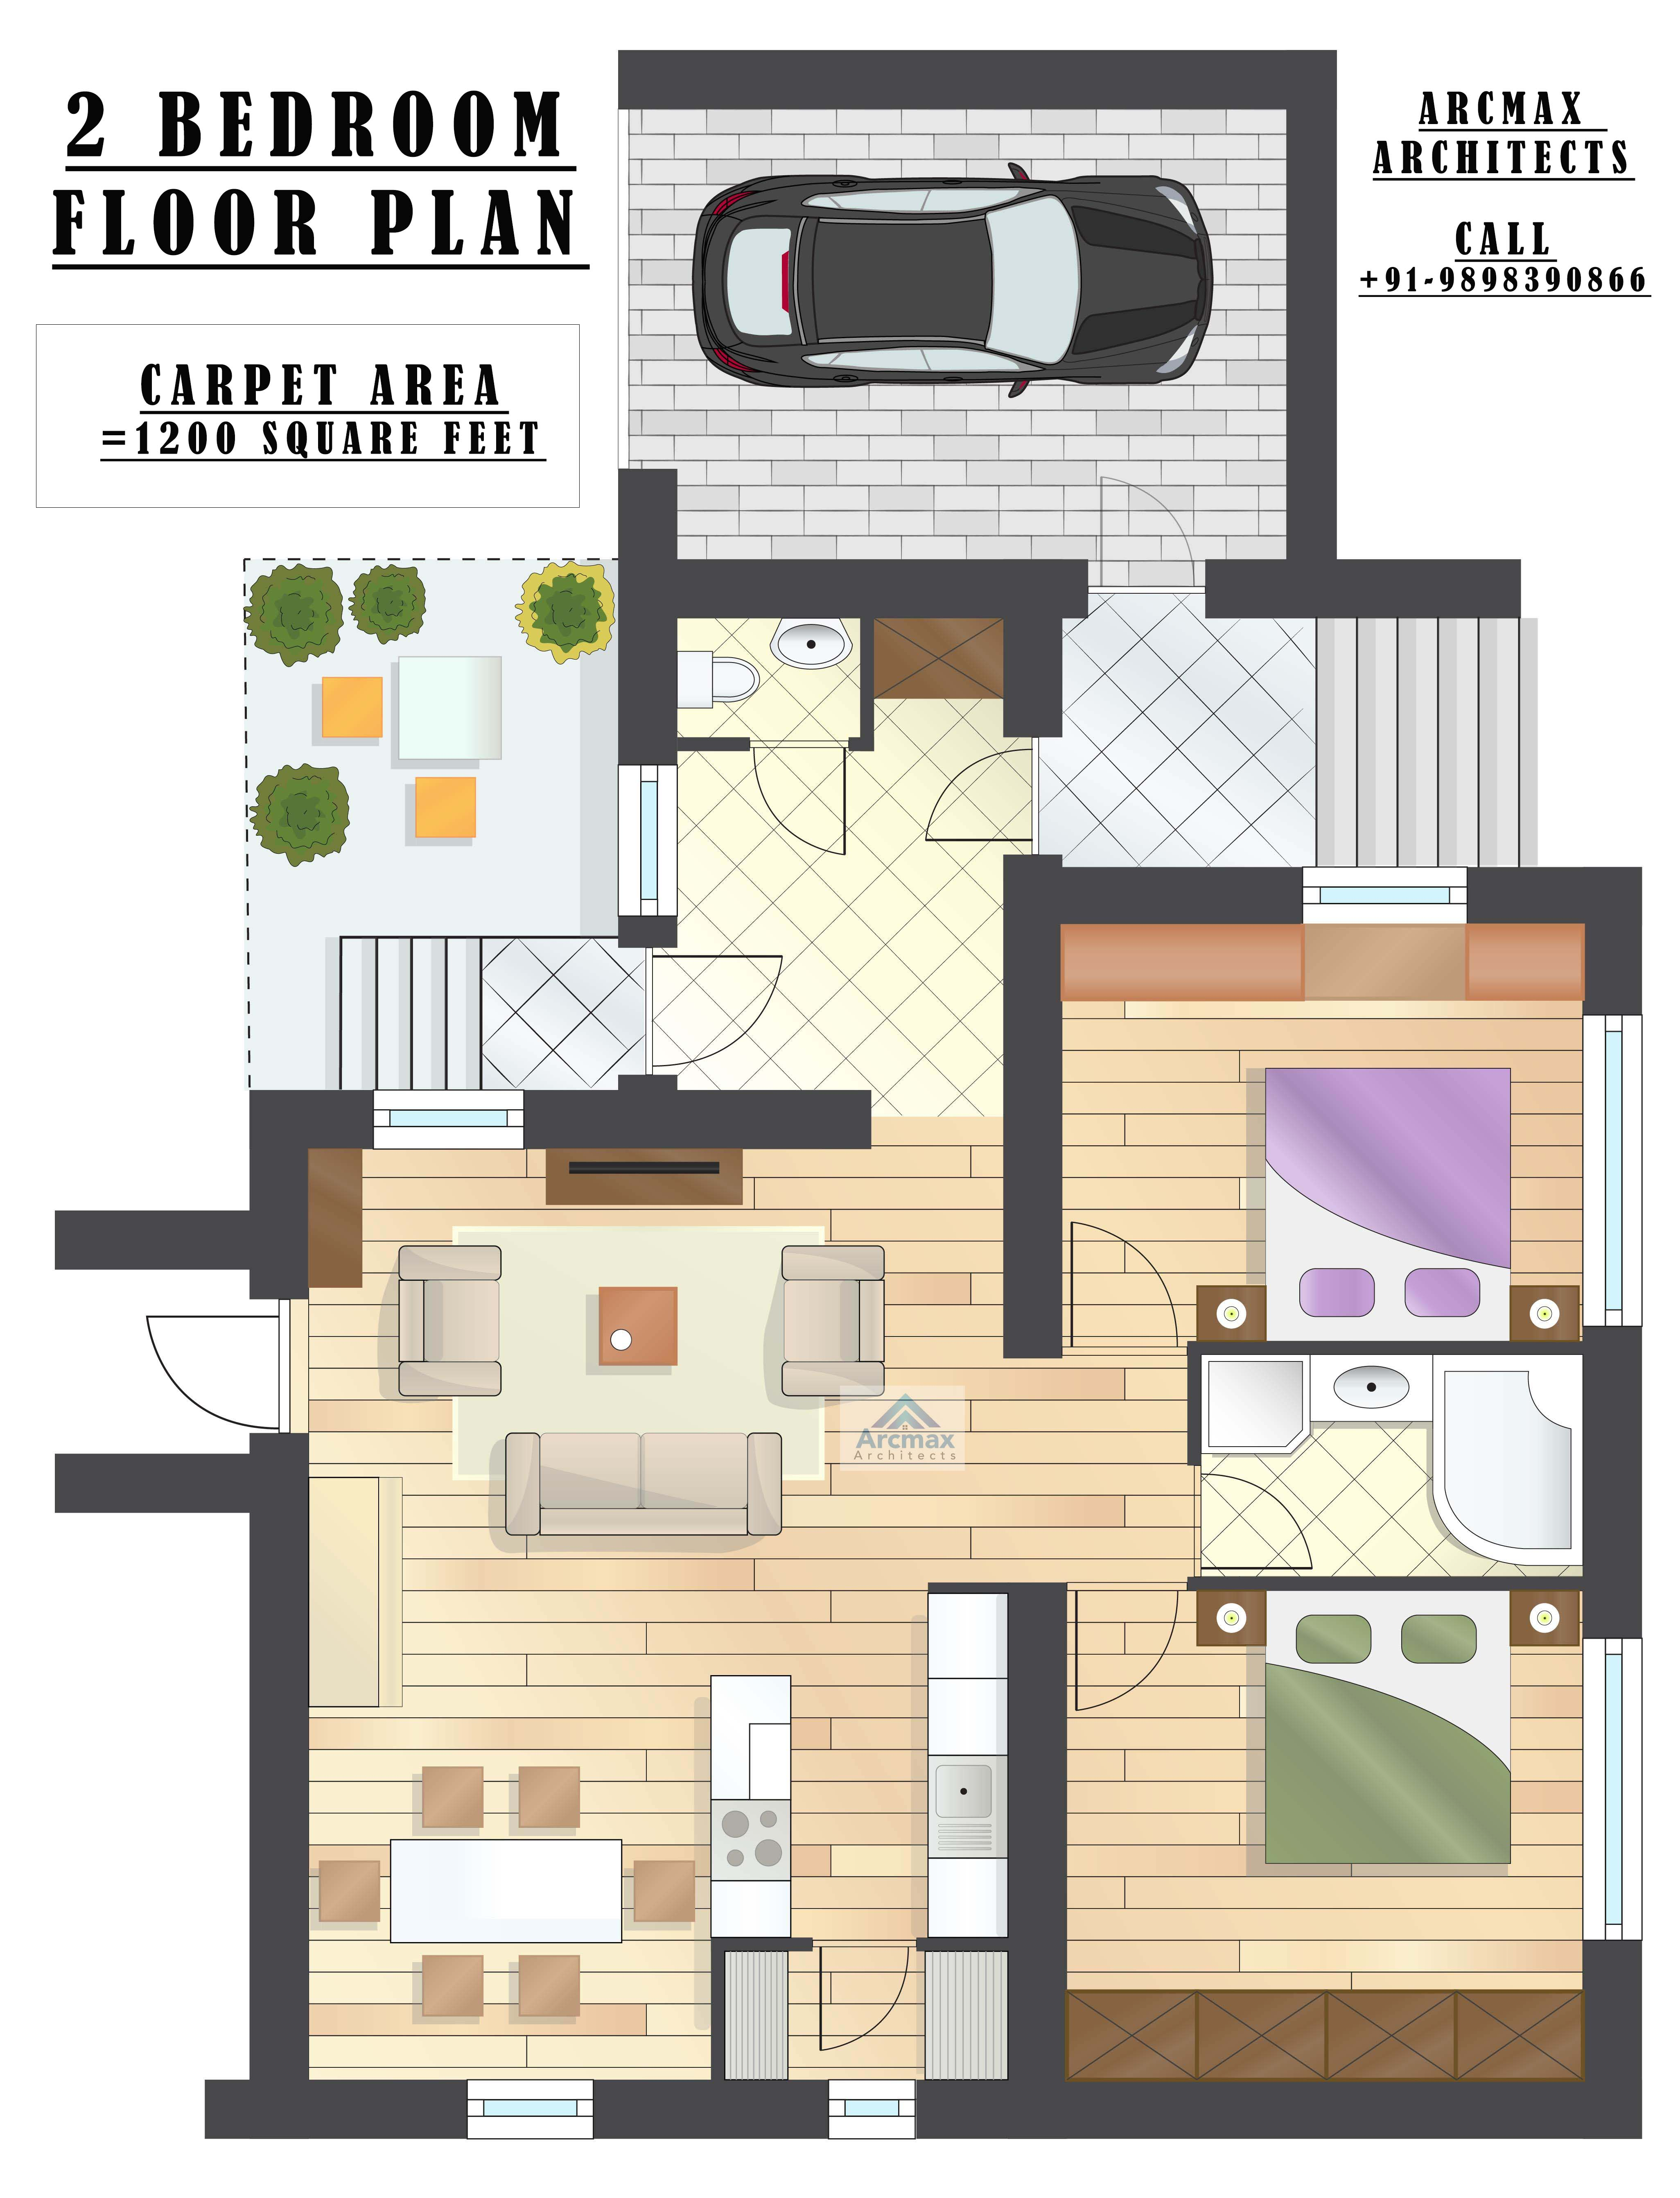window: (1581, 1013, 1645, 1331), (1579, 1637, 1643, 1942), (1299, 863, 1472, 929), (614, 763, 685, 918), (371, 1088, 529, 1155), (464, 2078, 595, 2142), (826, 2076, 918, 2142)
